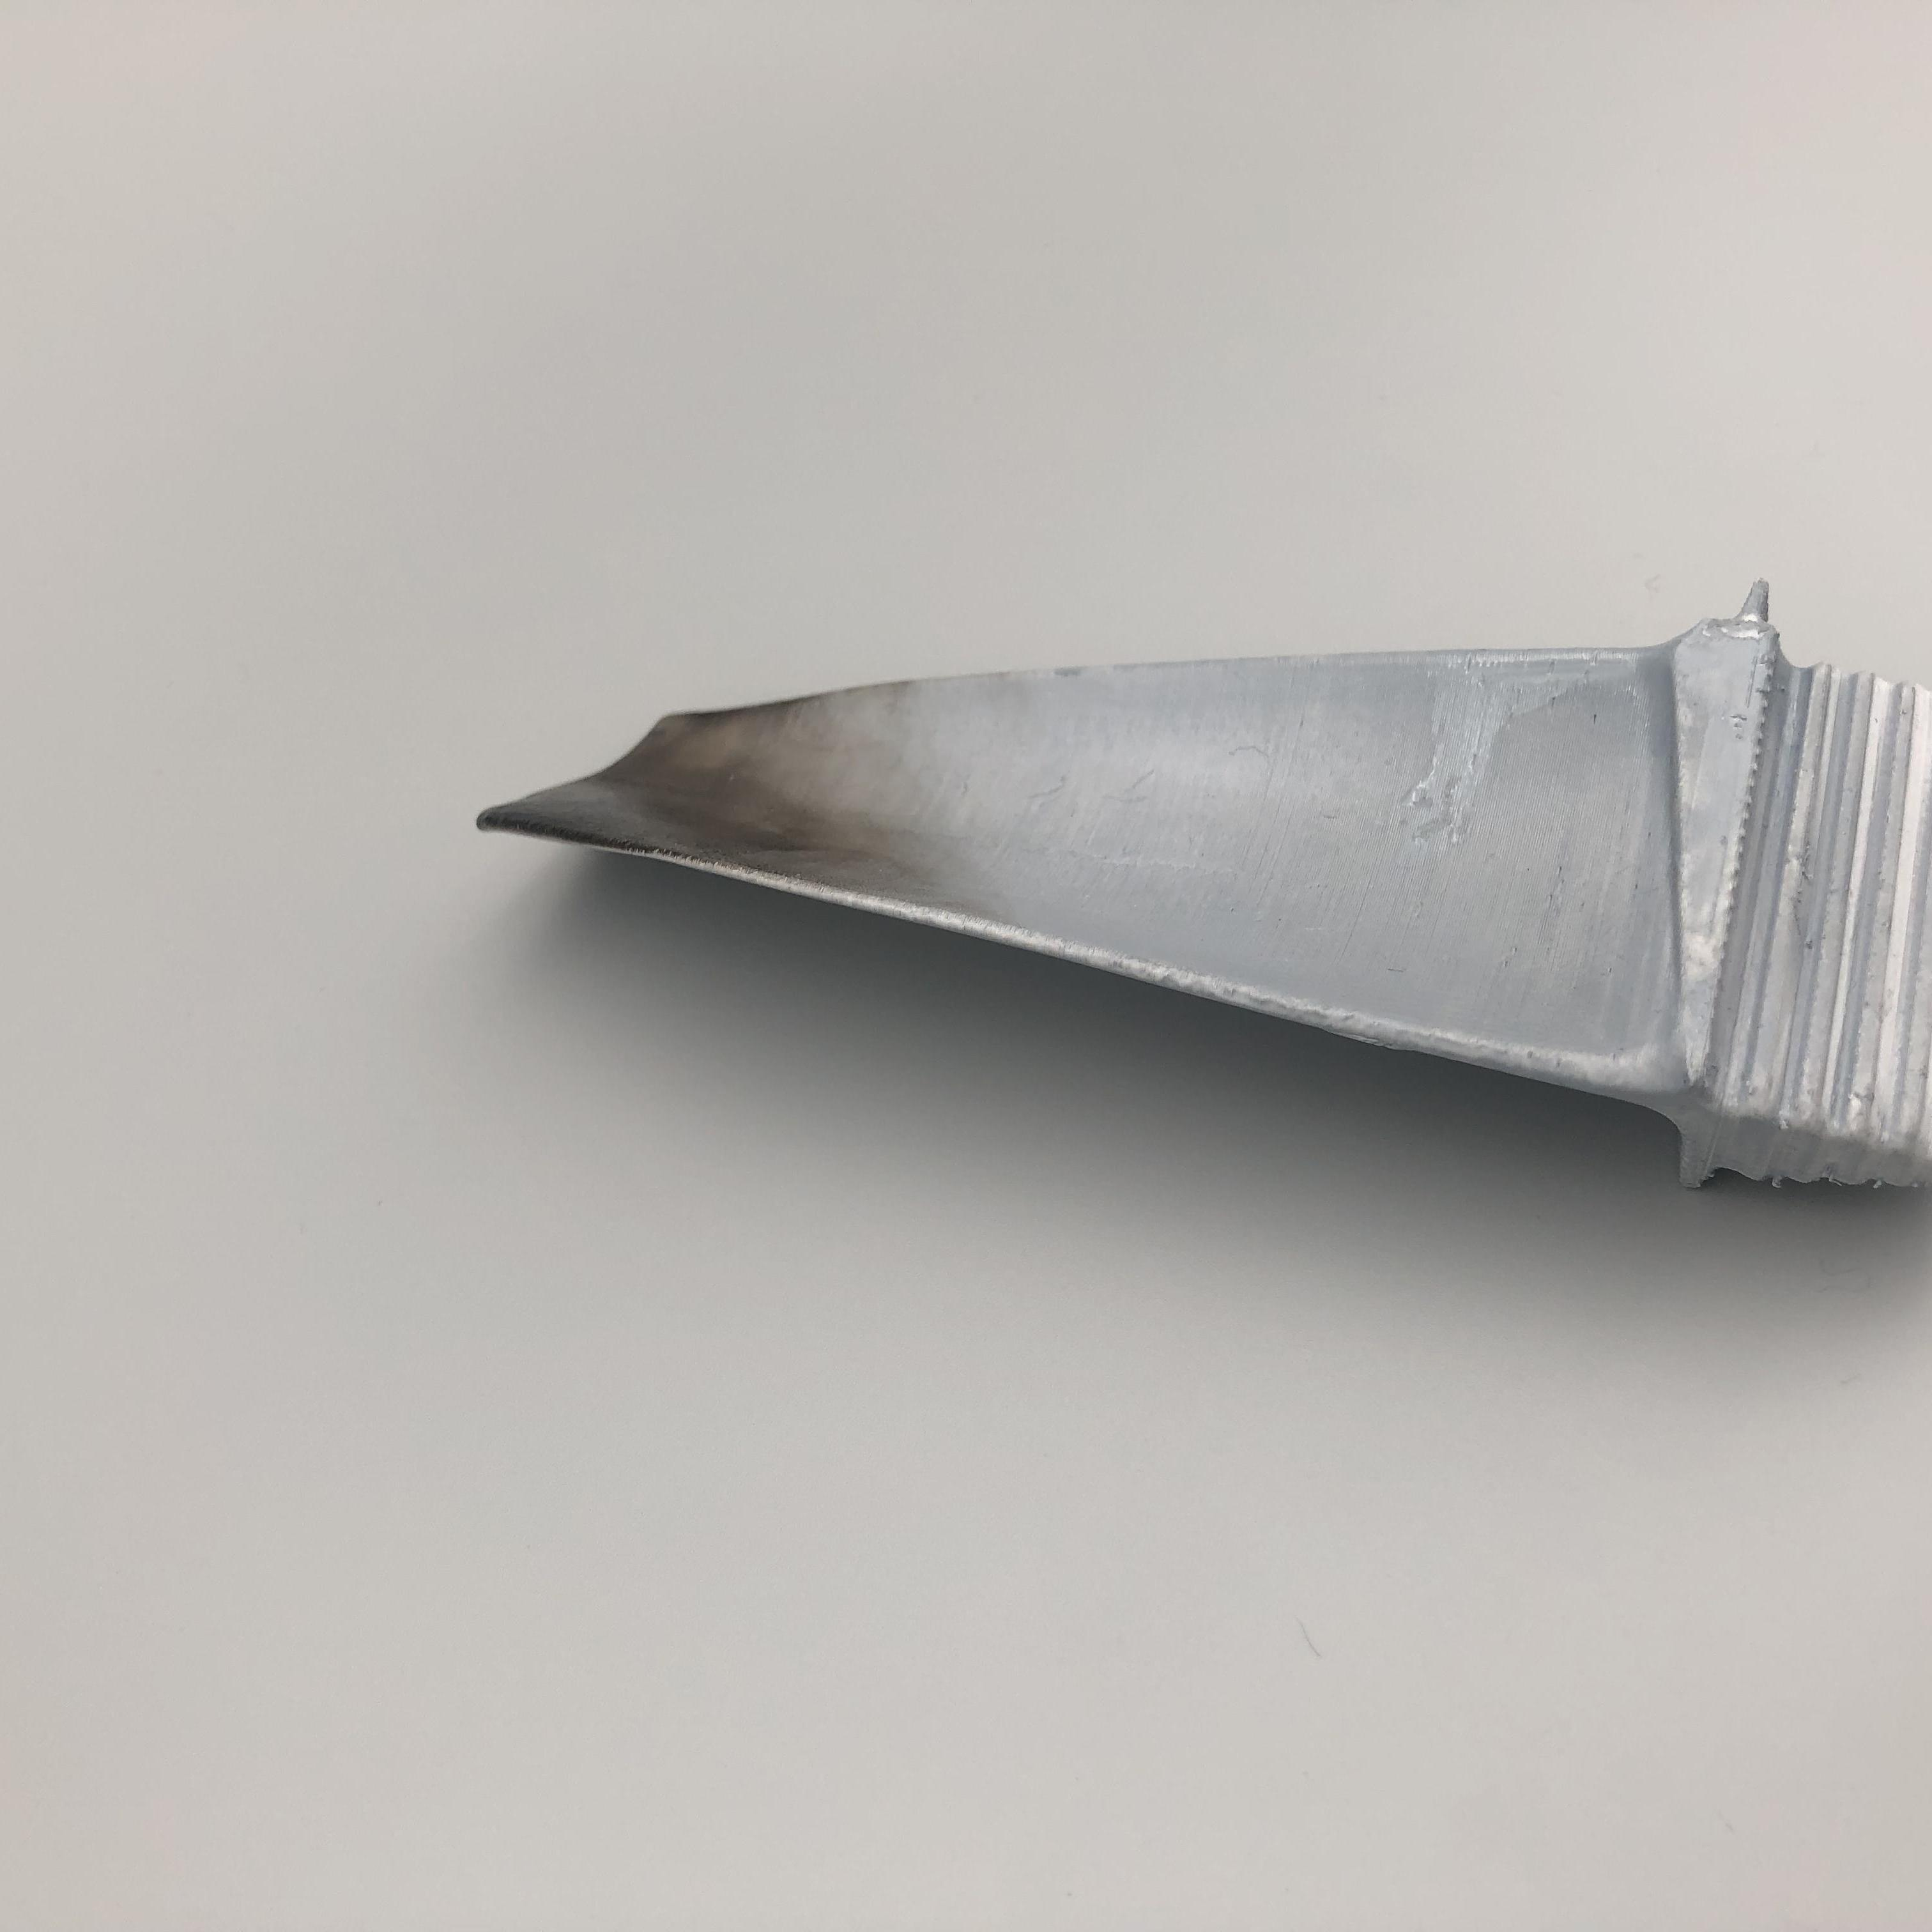ablation: (573, 755, 862, 865)
